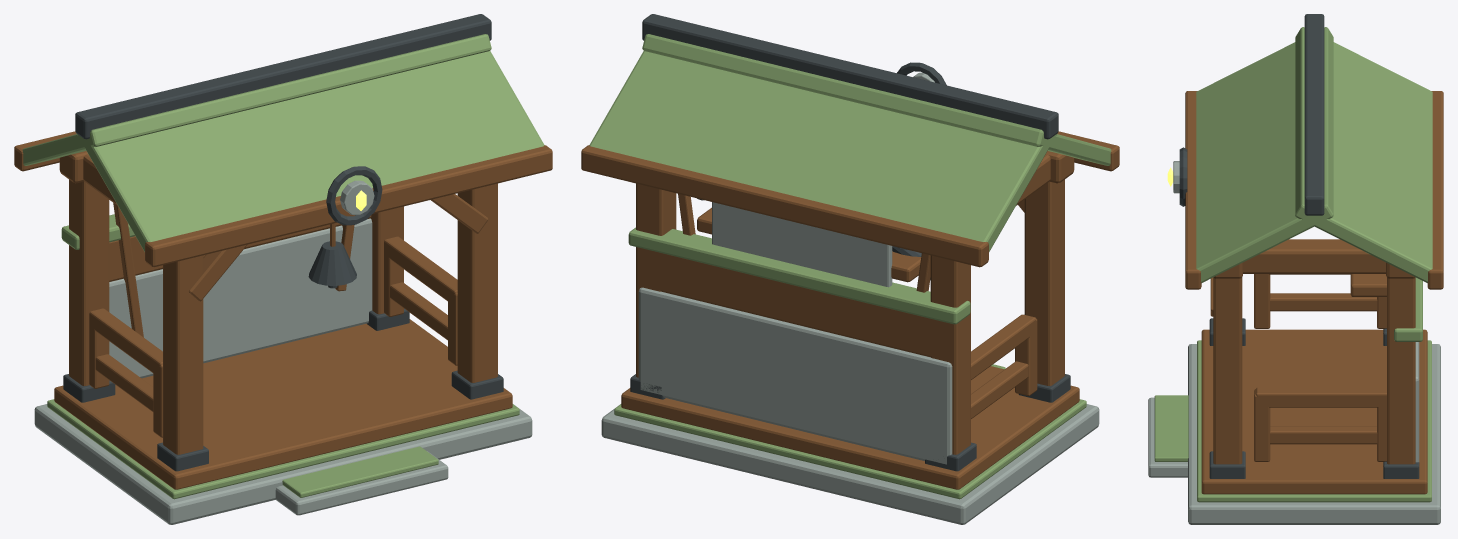
Rendered from SM_EmbermereFenwatchGatewatchPost_01.fbx.
3 views of the same model, side by side, from view 1: azimuth 30°, elevation 25°; view 2: azimuth 150°, elevation 25°; view 3: azimuth 270°, elevation 25° (orthographic). The views are drawn at different scales.
Parts seen in each view (by area): view 1: SM_EmbermereFenwatchGatewatchPost_01; view 2: SM_EmbermereFenwatchGatewatchPost_01; view 3: SM_EmbermereFenwatchGatewatchPost_01.
Boxes of the visible parts, x1,y1,x2,y2 form: SM_EmbermereFenwatchGatewatchPost_01: [14, 14, 552, 524]; SM_EmbermereFenwatchGatewatchPost_01: [581, 14, 1119, 524]; SM_EmbermereFenwatchGatewatchPost_01: [1148, 14, 1443, 524].
Size of what is drawn, in the model's own units: 482 by 327 by 414.
